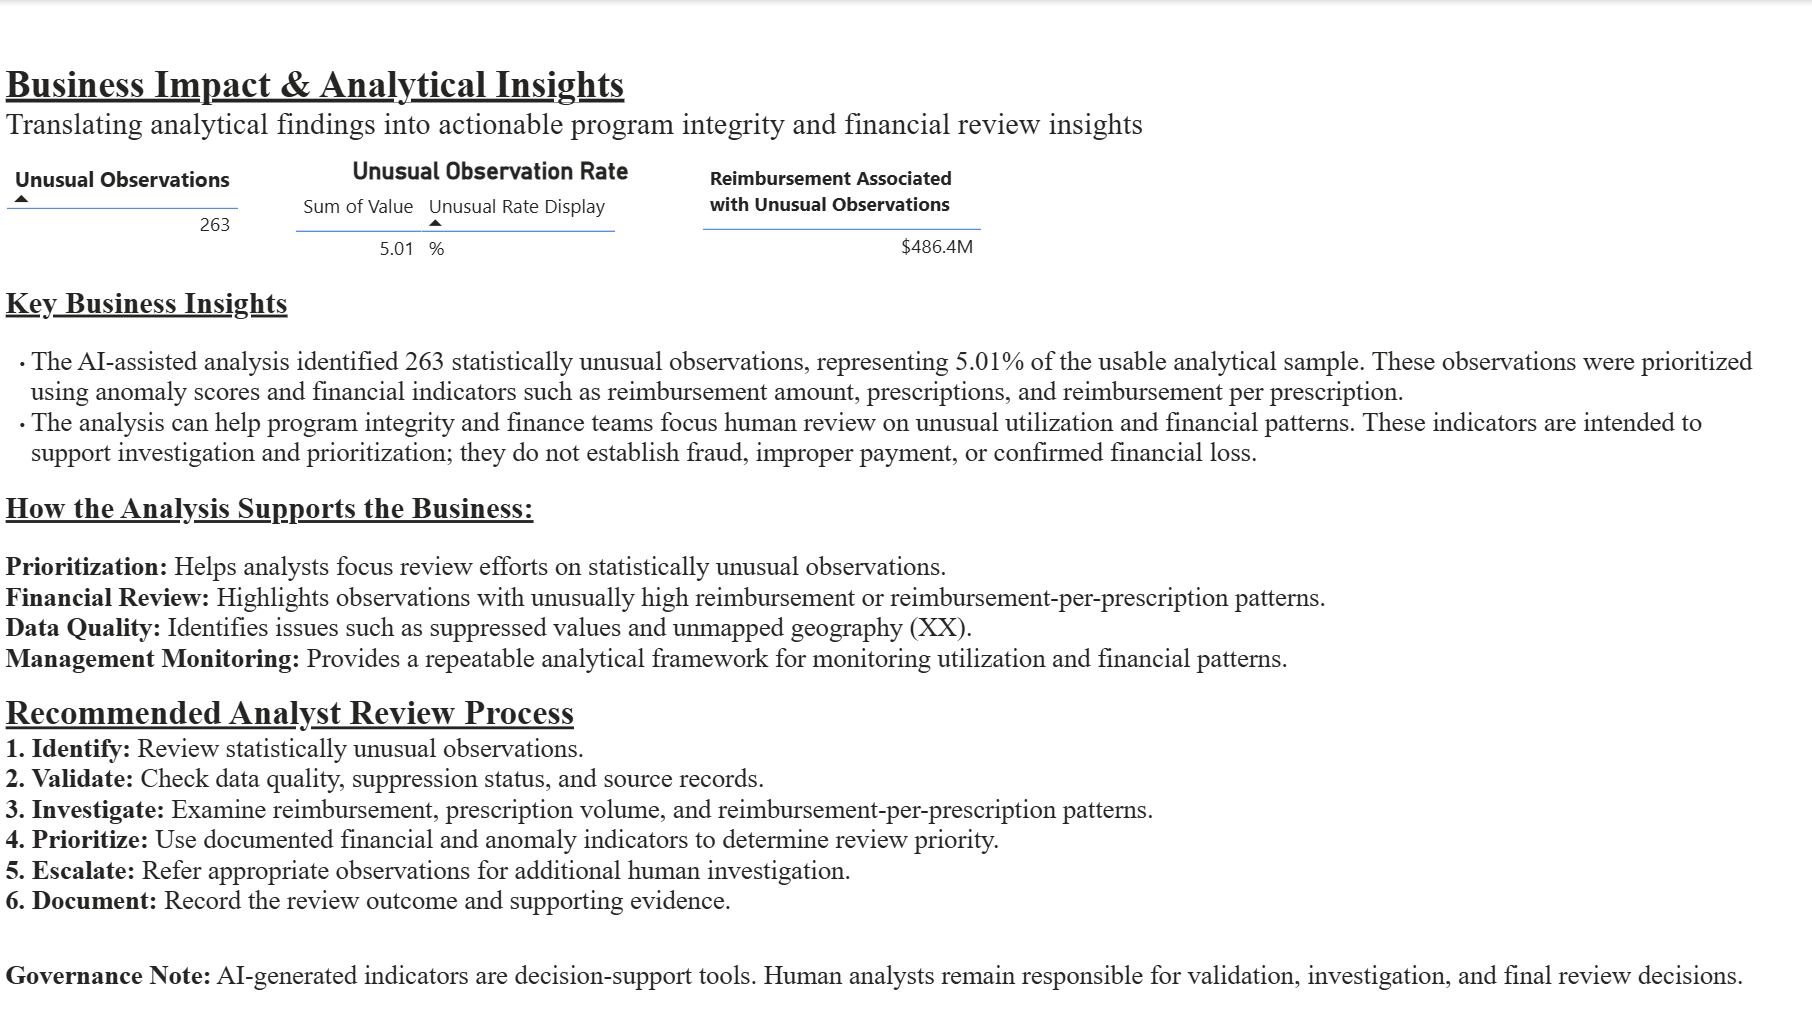

This screenshot's page, from the dashboard's own definition file:
{"tool":"powerbi","page":{"name":"Business Impact","canvas":[1280,720],"ordinal":2},"visuals":[{"type":"textbox","box":[0,38.2,841.2,70.7],"z":0},{"type":"tableEx","fields":{"Values":["Sum(AI Anomaly Summary.Value)"]},"box":[0,108.9,202.8,85.7],"z":1000},{"type":"tableEx","title":"Unusual Observation Rate","fields":{"Values":["Sum(AI Anomaly Summary.Value)","AI Anomaly Summary.Unusual Rate Display"]},"box":[202.8,108.9,285,85.7],"z":2000},{"type":"tableEx","fields":{"Values":["Sum(AI Anomaly Summary.Value)"]},"box":[487.8,108.9,215.5,85.7],"z":3000},{"type":"textbox","box":[0,194.7,1238.7,143.7],"z":4000},{"type":"textbox","box":[0,338.3,1238.7,142.5],"z":5000},{"type":"textbox","box":[0,480.9,1238.7,169.2],"z":5001},{"type":"textbox","box":[0,667.4,1280.4,52.1],"z":5002}]}

Visuals, with their boxes in screenshot pixels (x1, y1, x2, y2), scaled from the page's 1280x720 canvas onto the 1812x1021 screenshot:
textbox: <bbox>0, 54, 1191, 154</bbox>
tableEx - Sum(AI Anomaly Summary.Value): <bbox>0, 154, 287, 276</bbox>
"Unusual Observation Rate" tableEx: <bbox>287, 154, 691, 276</bbox>
tableEx - Sum(AI Anomaly Summary.Value): <bbox>691, 154, 996, 276</bbox>
textbox: <bbox>0, 276, 1754, 480</bbox>
textbox: <bbox>0, 480, 1754, 682</bbox>
textbox: <bbox>0, 682, 1754, 922</bbox>
textbox: <bbox>0, 946, 1811, 1020</bbox>
